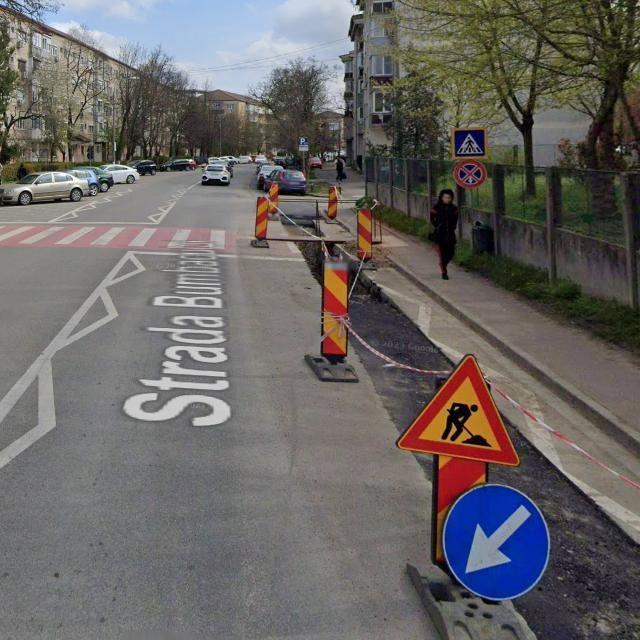forb_waiting: (454, 159, 487, 188)
info_crosswalk: (452, 128, 487, 159)
